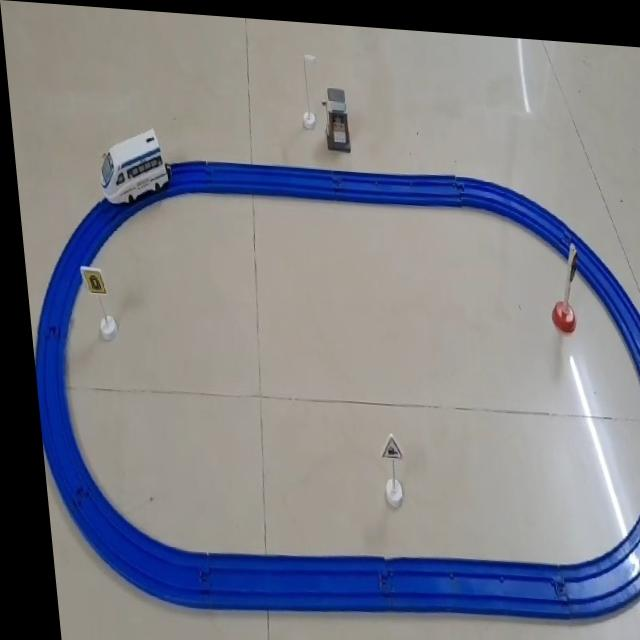bus: (92, 121, 168, 207)
